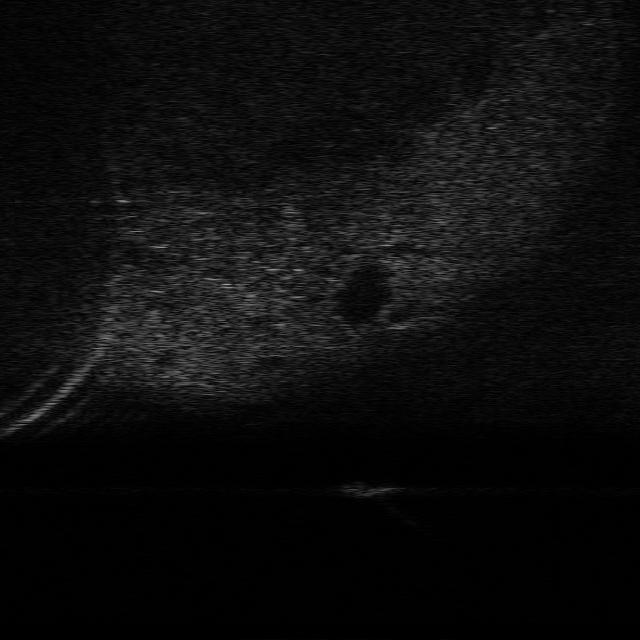cube: (339, 481, 401, 500)
